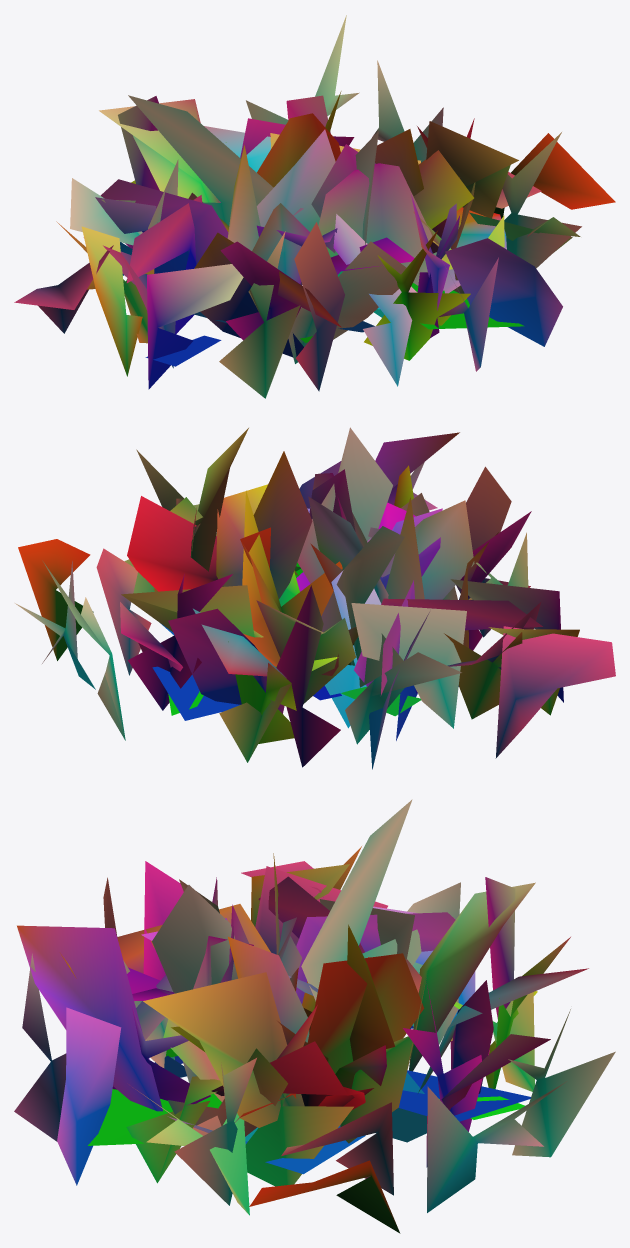
The model's file is Kikuyu_Grass_wiljearqx_High_wiljearqx_VarE_LOD2.fbx.
The picture shows the model from 3 angles, top to bottom: view 1: azimuth 30°, elevation 25°; view 2: azimuth 150°, elevation 25°; view 3: azimuth 270°, elevation 25°; orthographic projection. The views are drawn at different scales.
Parts seen in each view (by area): view 1: _yhwt_VarE_LOD5; view 2: _yhwt_VarE_LOD5; view 3: _yhwt_VarE_LOD5.
Part boxes in pixels (x1,y1,x2,y2): _yhwt_VarE_LOD5: (14, 15, 615, 398); _yhwt_VarE_LOD5: (15, 427, 615, 769); _yhwt_VarE_LOD5: (14, 799, 615, 1233).
Size of the model in its own units: 89.64 by 31.57 by 71.24.
